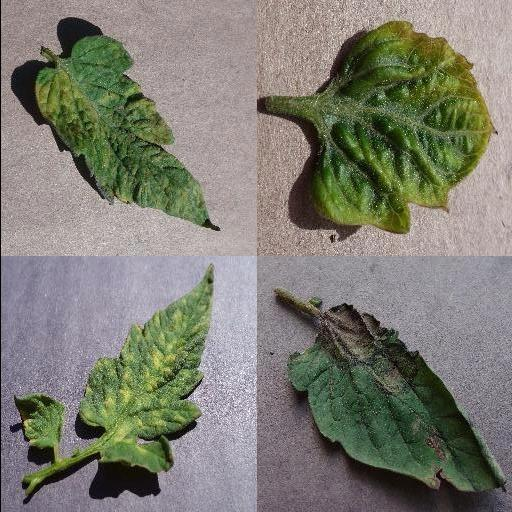Late Blight: (285, 305, 507, 495)
Leaf Mold: (34, 34, 222, 232), (74, 264, 216, 474)
Yellow Leaf Curl Virus: (306, 20, 498, 234)
